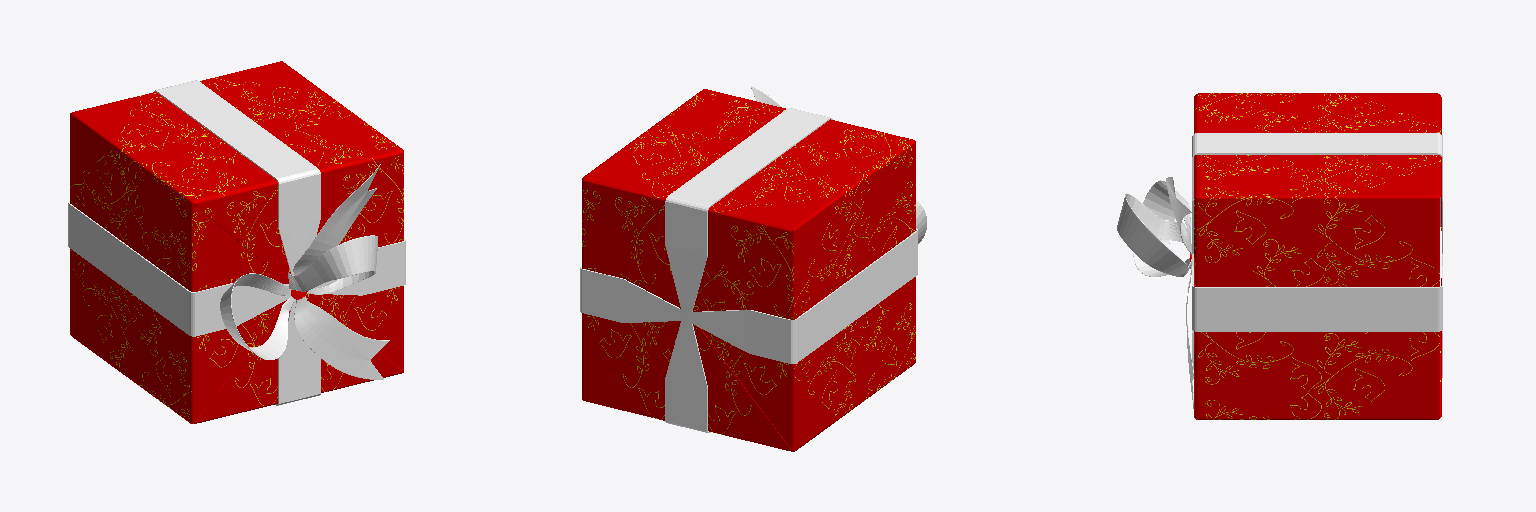
3 renders of one model, left to right at view 1: azimuth 30°, elevation 25°; view 2: azimuth 150°, elevation 25°; view 3: azimuth 270°, elevation 25°, orthographic.
Visible parts, largest first — view 1: Gift_3_body_pivot, Gift_3_tape_pivot; view 2: Gift_3_body_pivot, Gift_3_tape_pivot; view 3: Gift_3_body_pivot, Gift_3_tape_pivot.
Boxes of the visible parts, x1,y1,x2,y2 form: Gift_3_body_pivot: [70, 61, 403, 423]; Gift_3_tape_pivot: [68, 80, 405, 405]; Gift_3_body_pivot: [582, 89, 915, 451]; Gift_3_tape_pivot: [580, 85, 926, 432]; Gift_3_body_pivot: [1194, 93, 1441, 419]; Gift_3_tape_pivot: [1117, 133, 1442, 408].
Bounding box in the file's own units: 8.93 × 9.02 × 11.68.
3 materials, 1 textured.